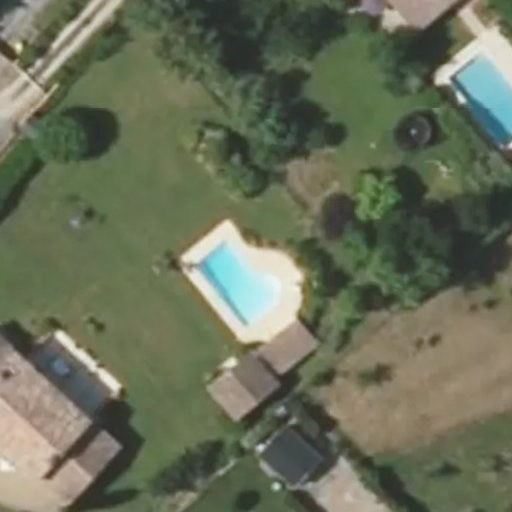pool: (188, 237, 292, 335), (446, 48, 512, 149)
